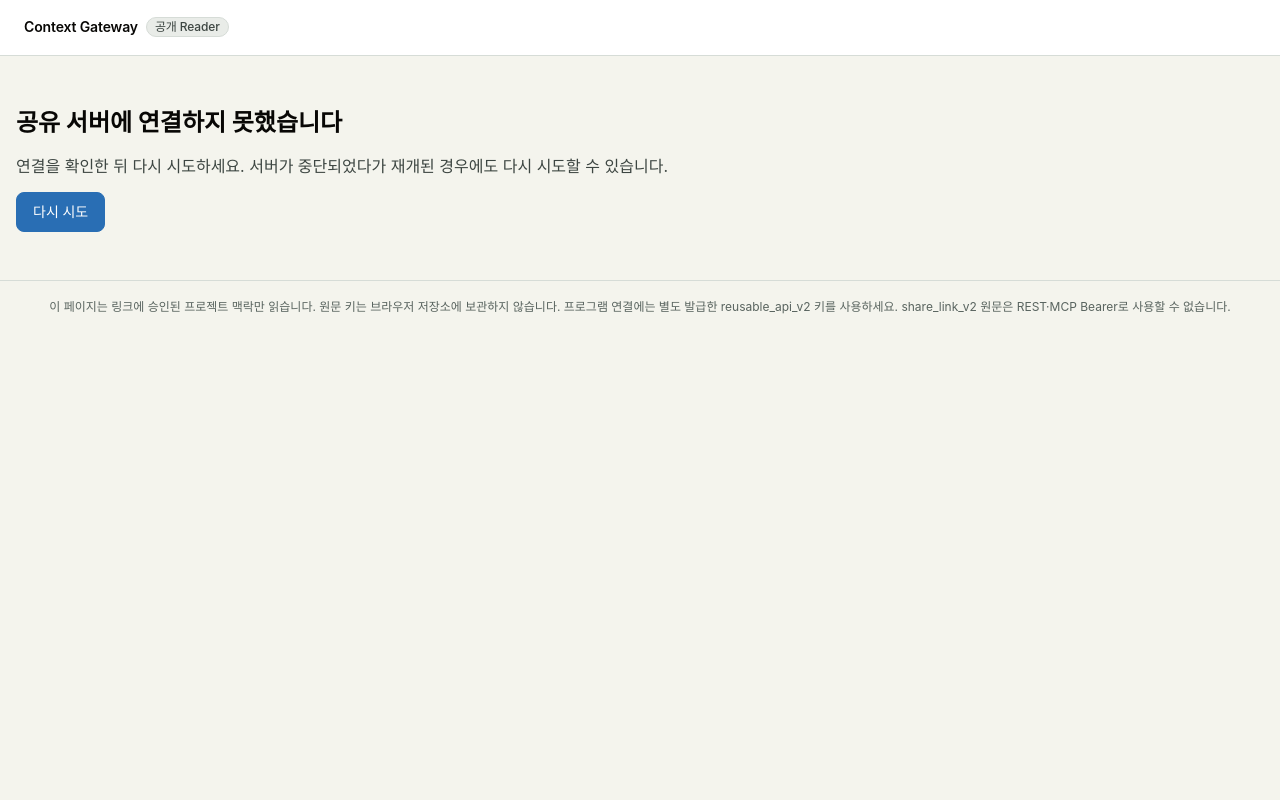
Test: 공개 공유 Reader › 네트워크 실패 후 재시도하면 반복 교환으로 공유 쿠키를 갱신하고 다시 읽는다
Expected: the message shows "공유 서버에 연결하지 못했습니다", [16,108,342,137]
Click the button "다시 시도" at (61, 212), box [16,192,105,232]
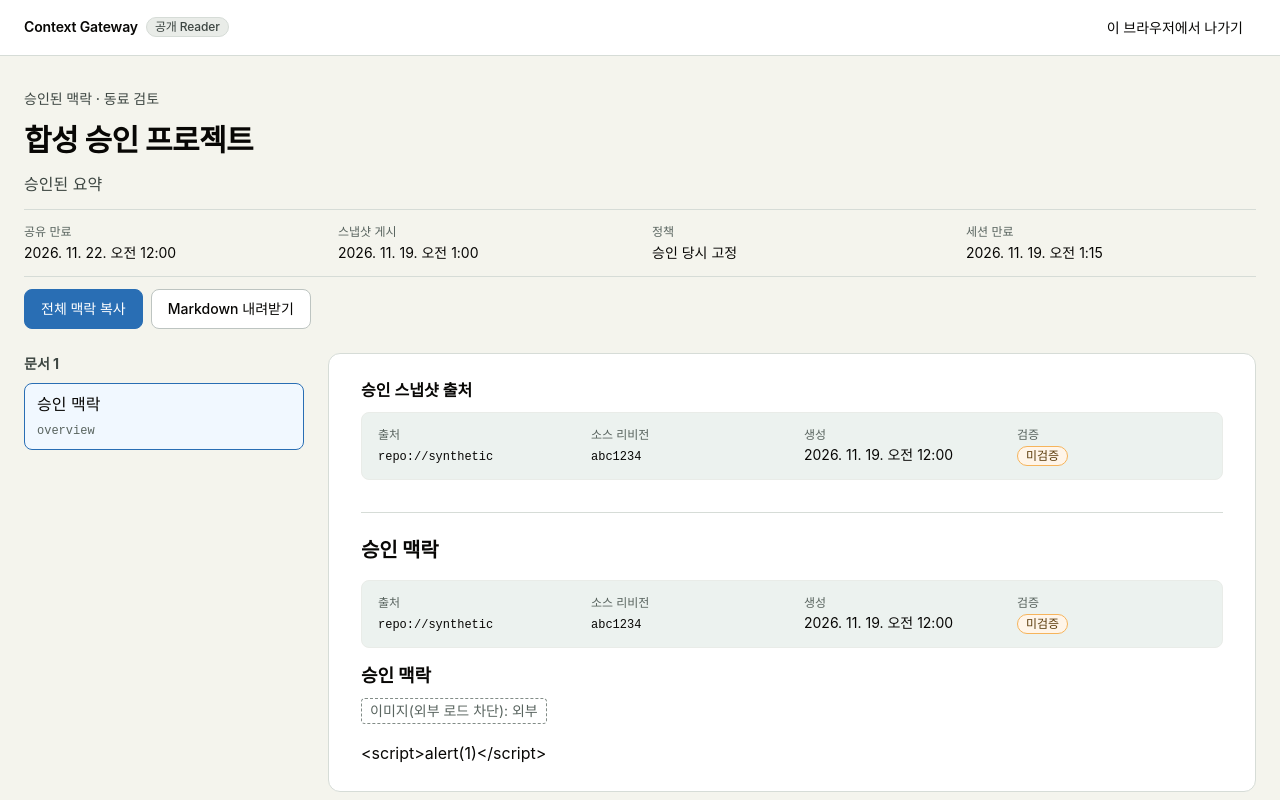
Expected: the heading "합성 승인 프로젝트" is shown, [24,122,253,158]
